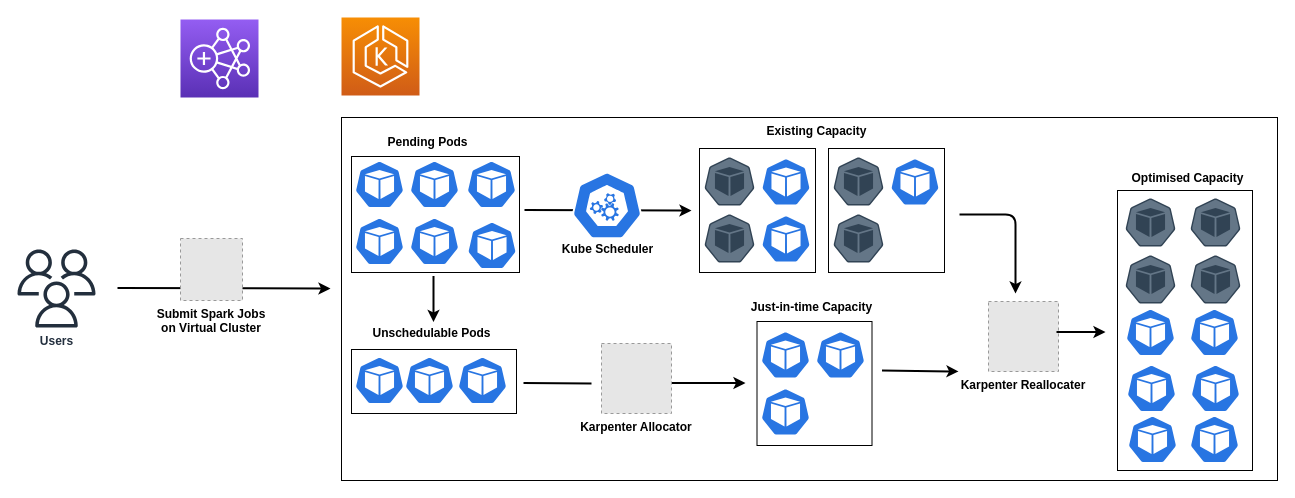
Image size: 1295x498. Some labels were removed from this diagram. Grey dashed boxes stand in for pictures. Each missing label, with the centre of its shape:
Amazon EKS: (380,56)
Amazon EMR: (219,58)
